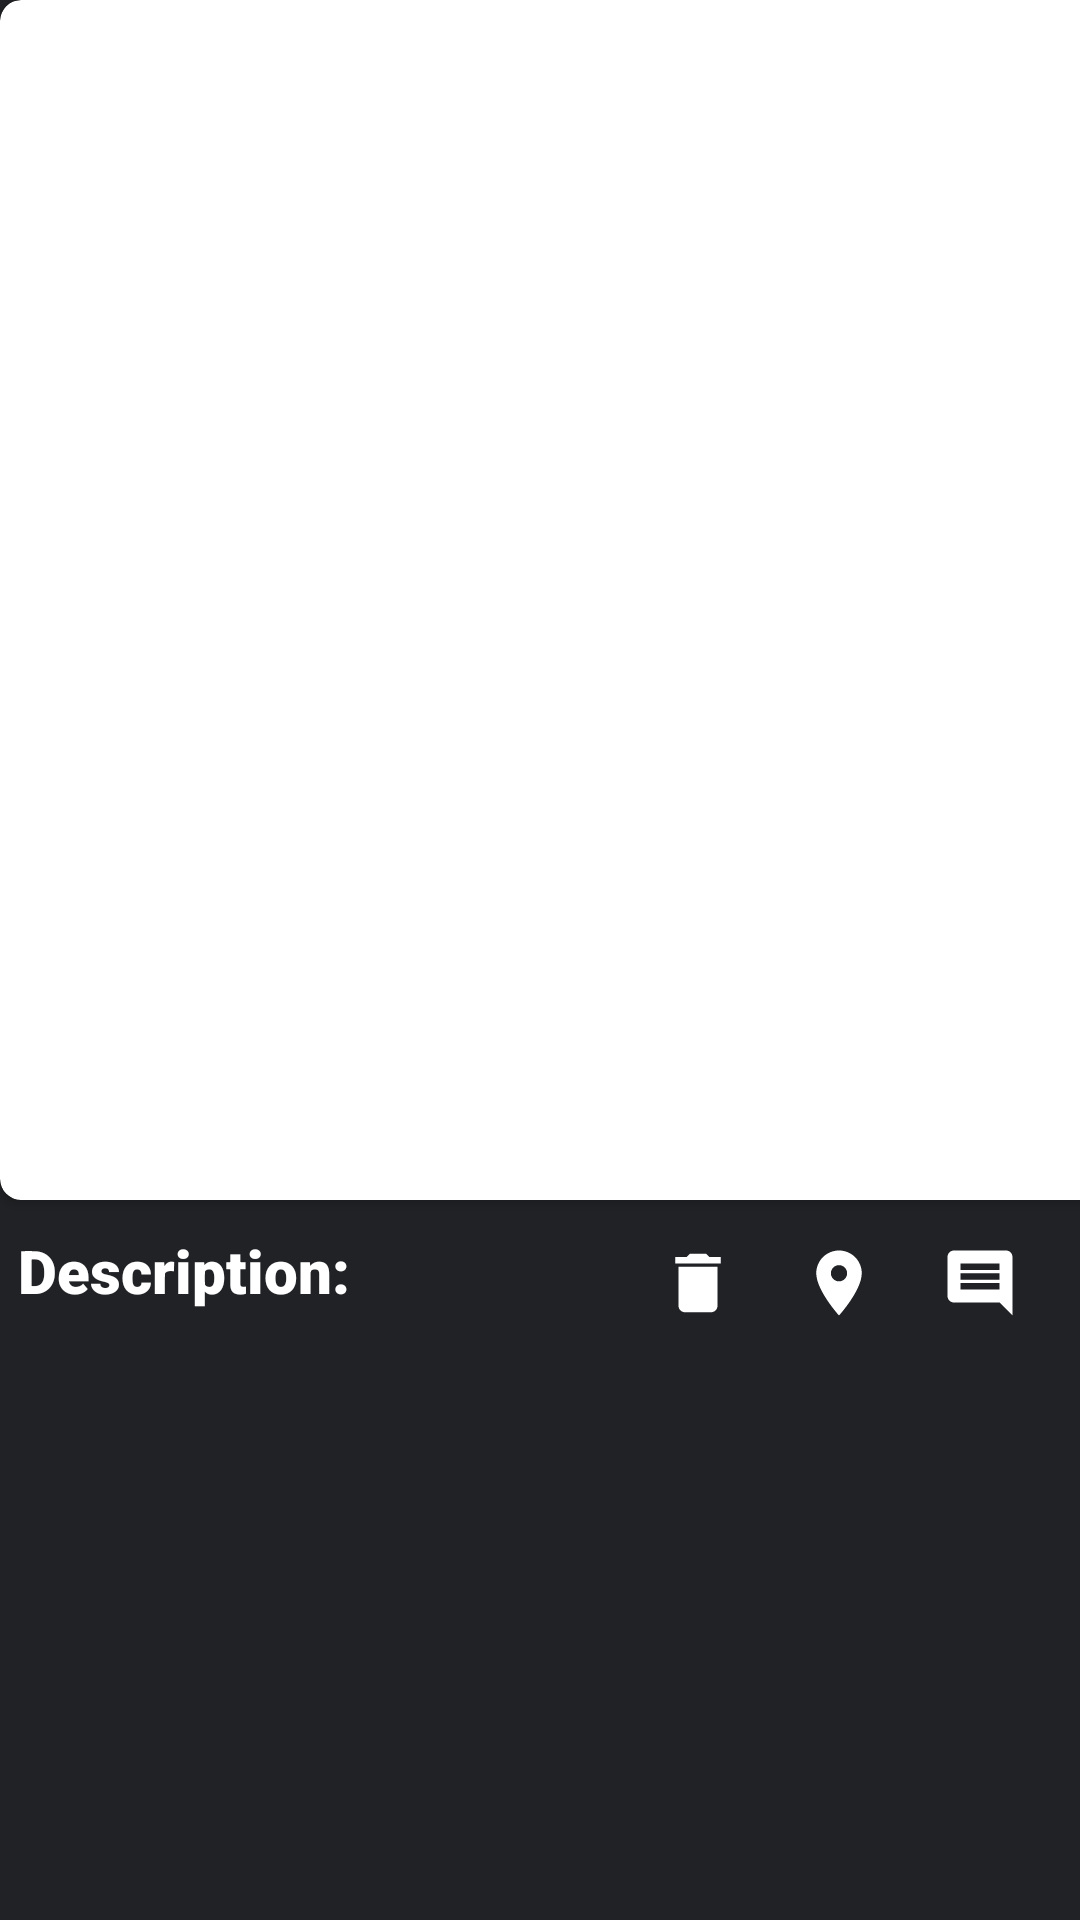

Where icons sit on this 1080x1920 app screen, as (x1, y1, x2, y2):
comment: (947, 1250, 1013, 1315)
delete: (675, 1253, 721, 1313)
qr location: (816, 1250, 862, 1315)
